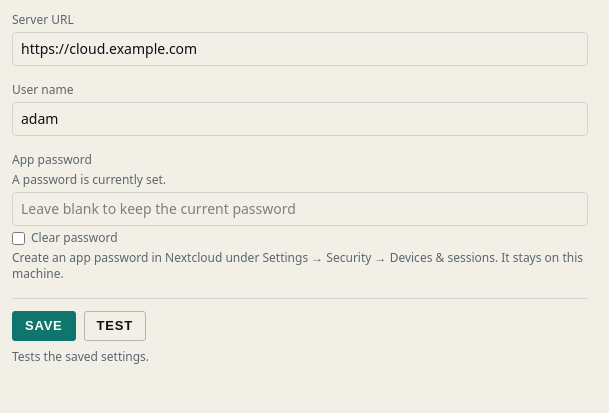
Test case: NextcloudPanel › a 400 for an http URL shows the server message
Type "http://cloud.example.com" into the field showing "https://cloud.example.com" at (300, 49), box [12,32,588,66]
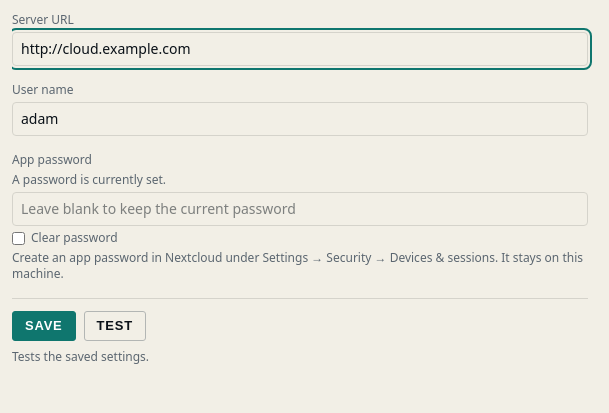
Click the button "Save" at (44, 326), box [12,311,76,341]
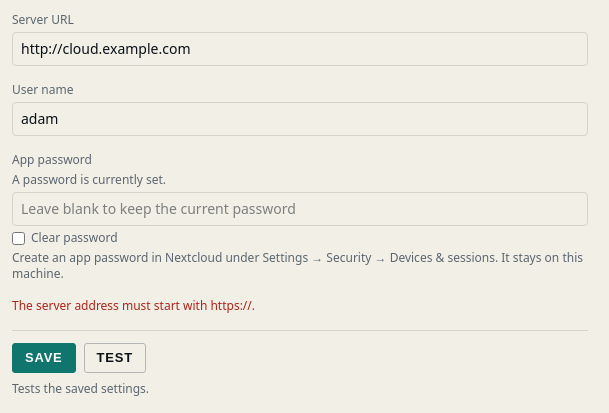
Expected: the text "The server address must start with https://." is shown, [12,297,255,314]
